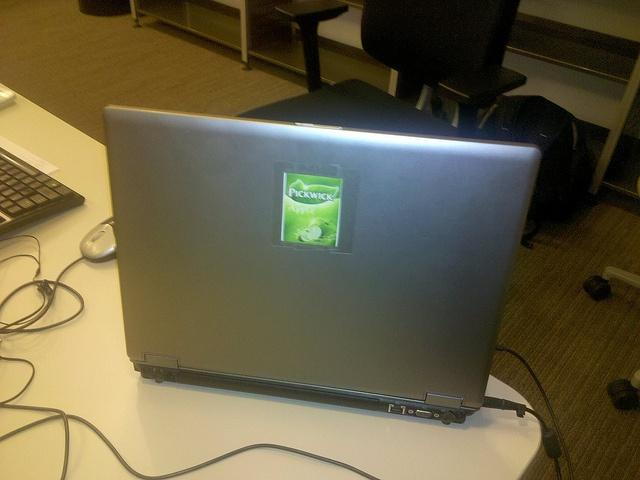Kursi: (230, 0, 527, 140)
